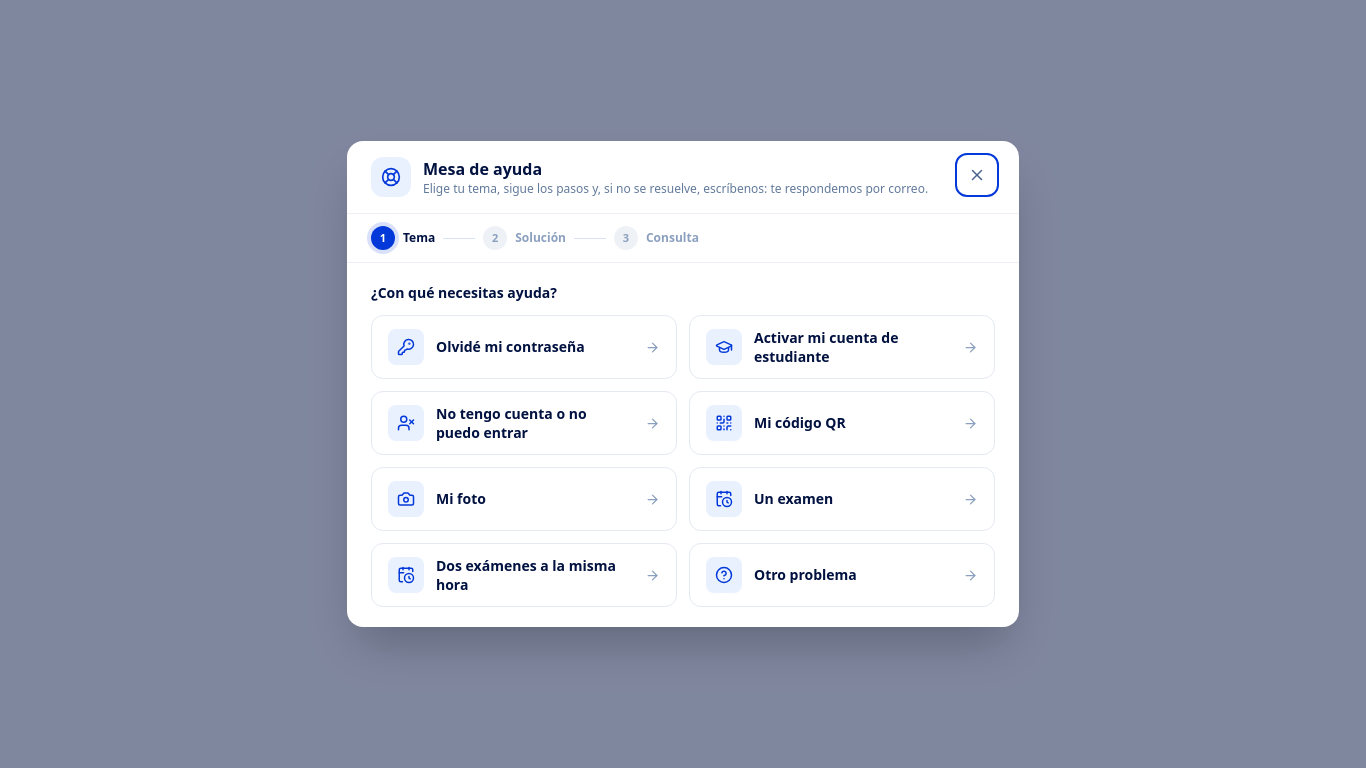
Test case: Mesa de ayuda › si no se resolvió, envía la consulta con el tema elegido y explica qué pasa después
Click the button "Activar mi cuenta de estudiante": (842, 347) left=689, top=315, right=995, bottom=379
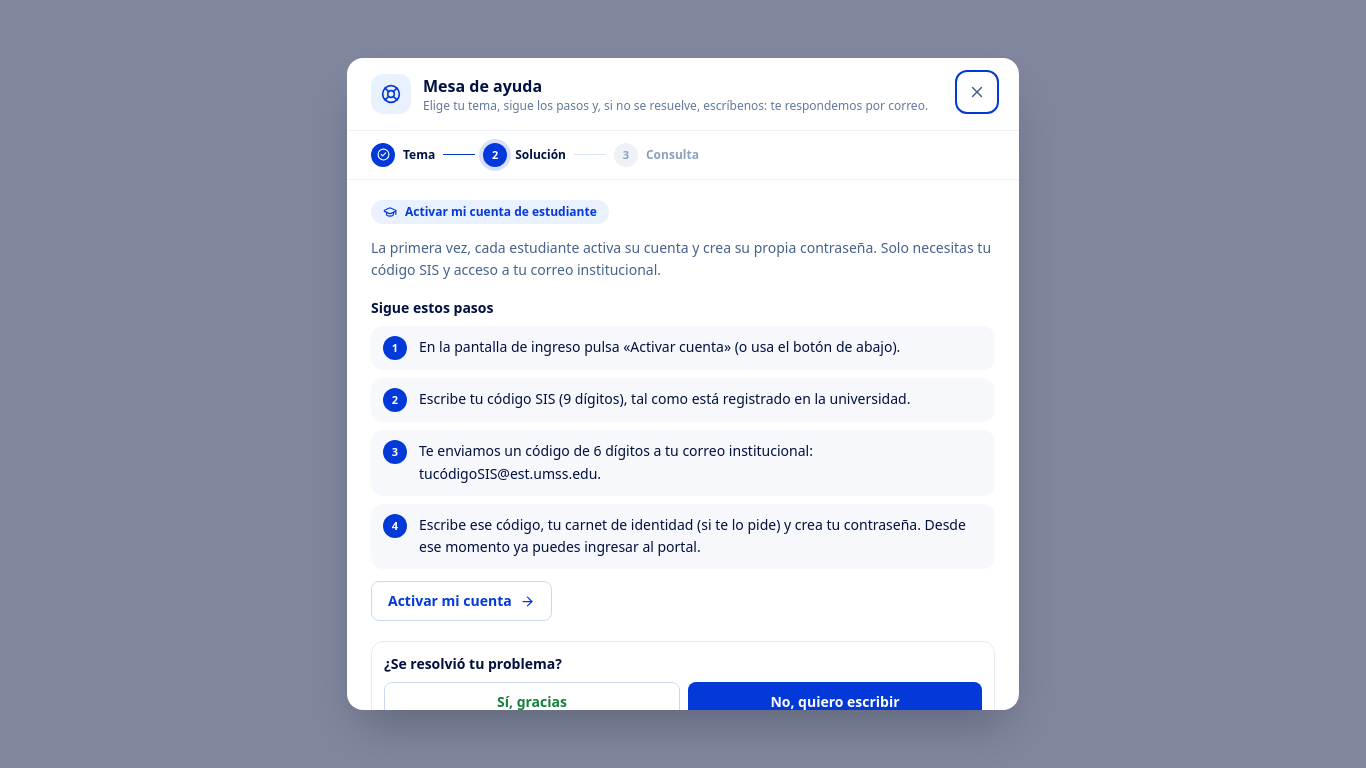
Click the button "No, quiero escribir": (835, 702) left=688, top=682, right=982, bottom=722
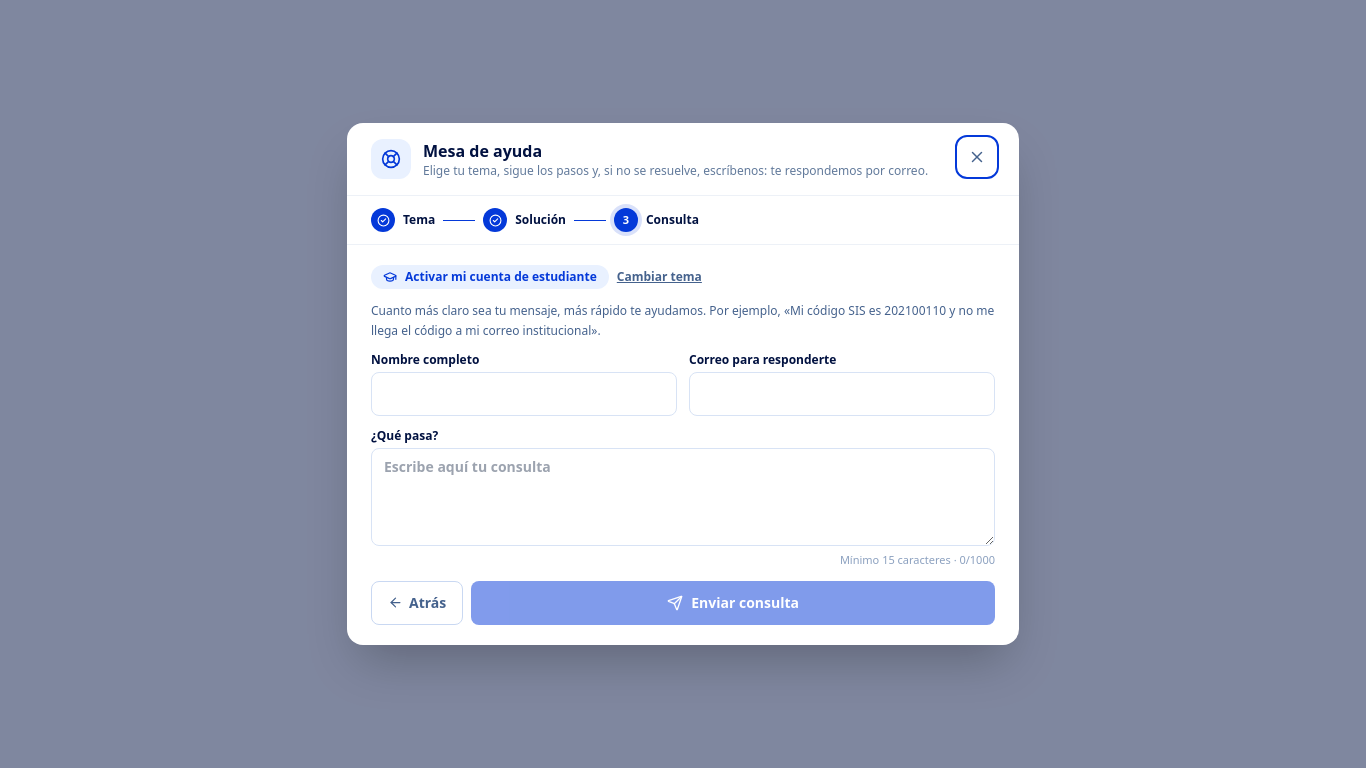
Result: the button "Enviar consulta" is disabled at left=471, top=581, right=995, bottom=625
In the field labelled "Nombre completo": (524, 394) left=371, top=372, right=677, bottom=416, type "Ana Pérez"
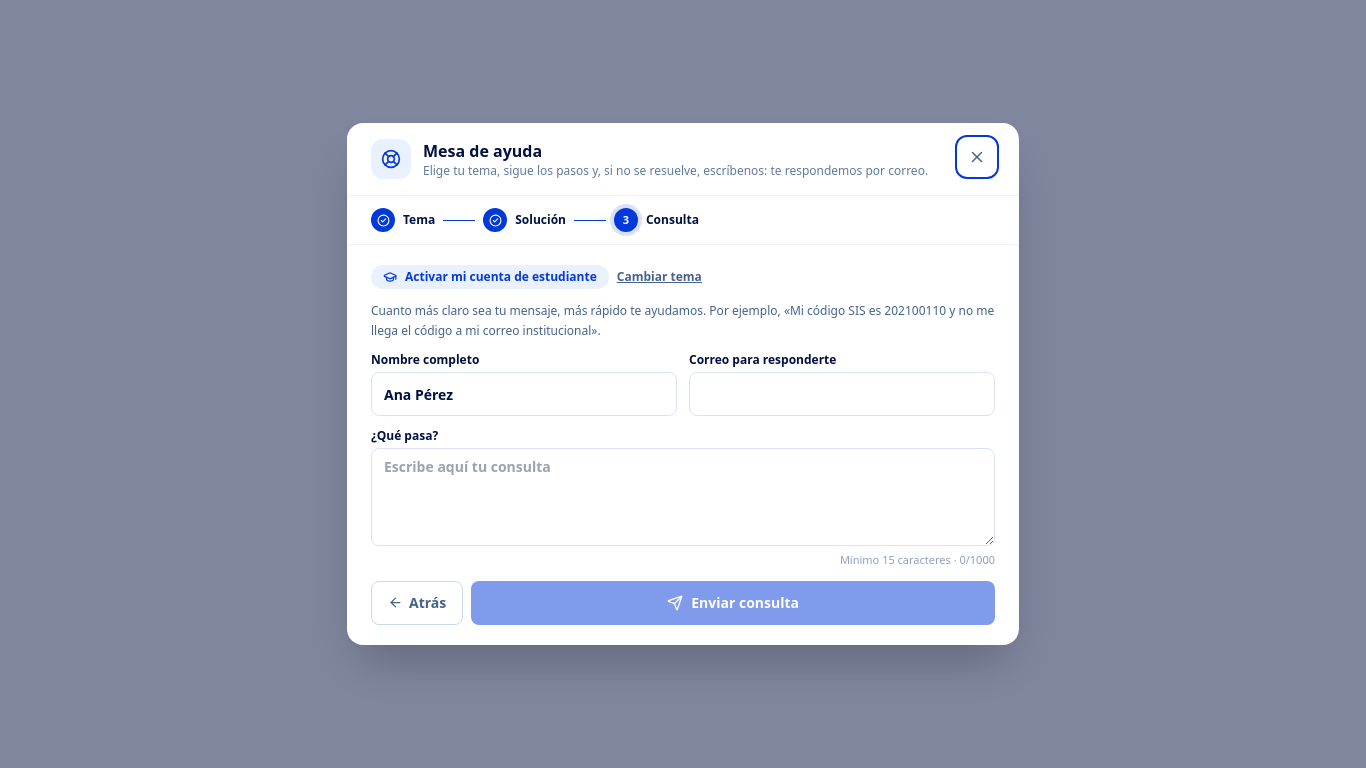
In the field labelled "Correo para responderte": (842, 394) left=689, top=372, right=995, bottom=416, type "ana@est.umss.edu"
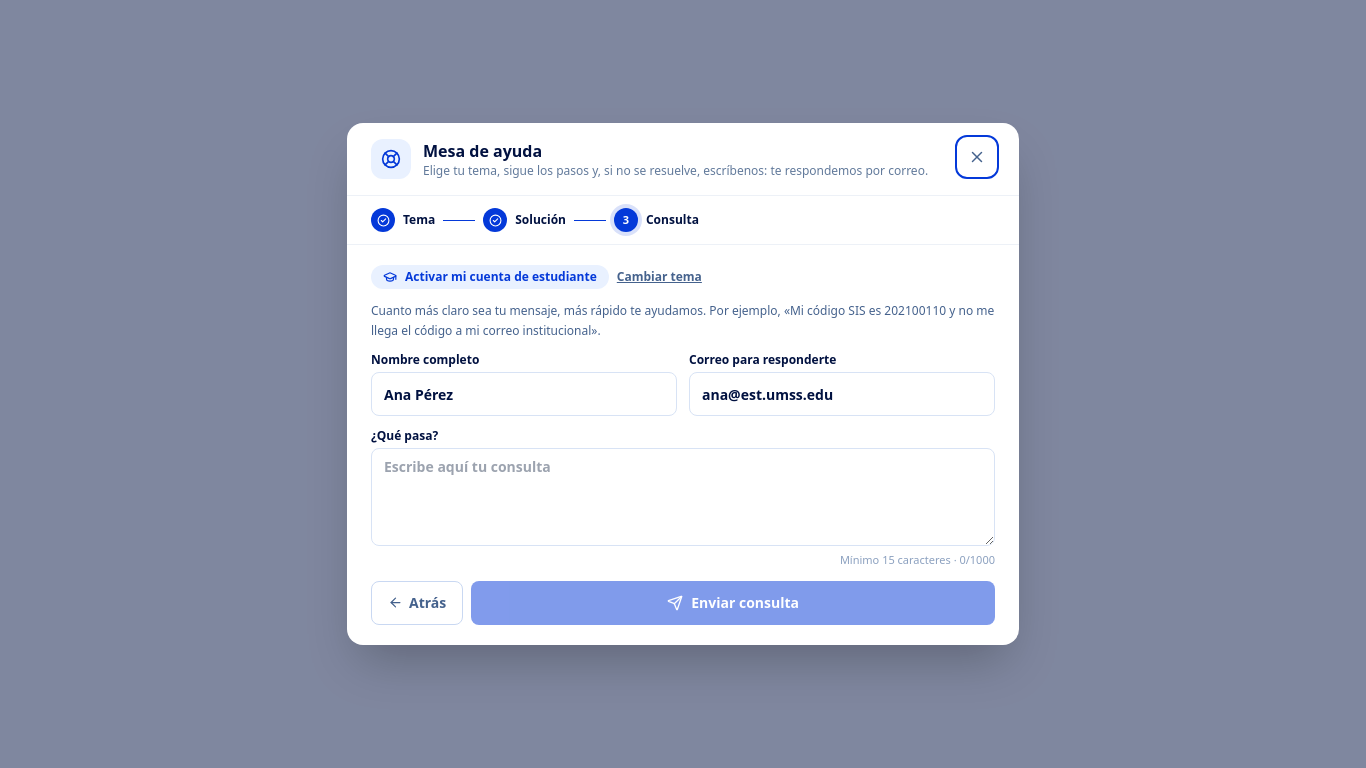
In the text box labelled "¿Qué pasa?": (683, 497) left=371, top=448, right=995, bottom=546, type "No me llega el código para activar mi cuenta."
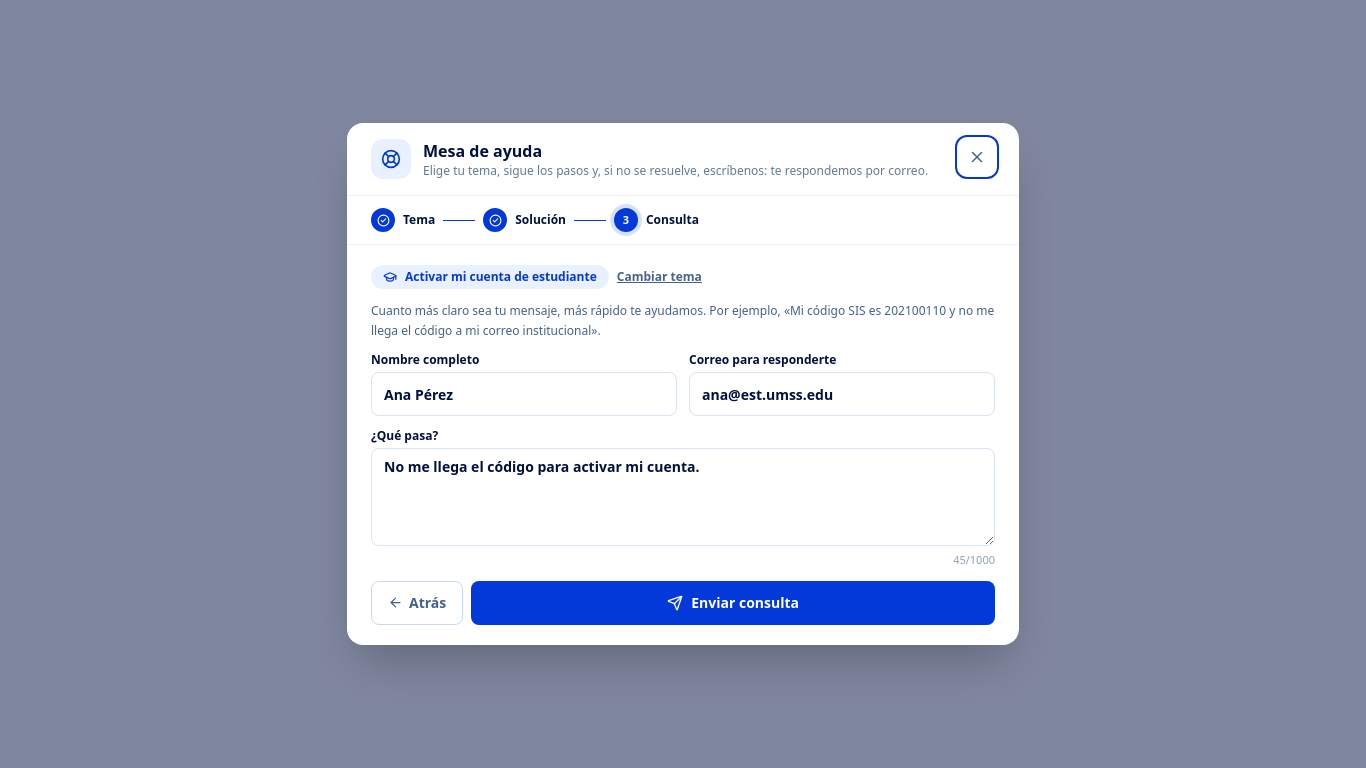
Click the button "Enviar consulta": (733, 603) left=471, top=581, right=995, bottom=625
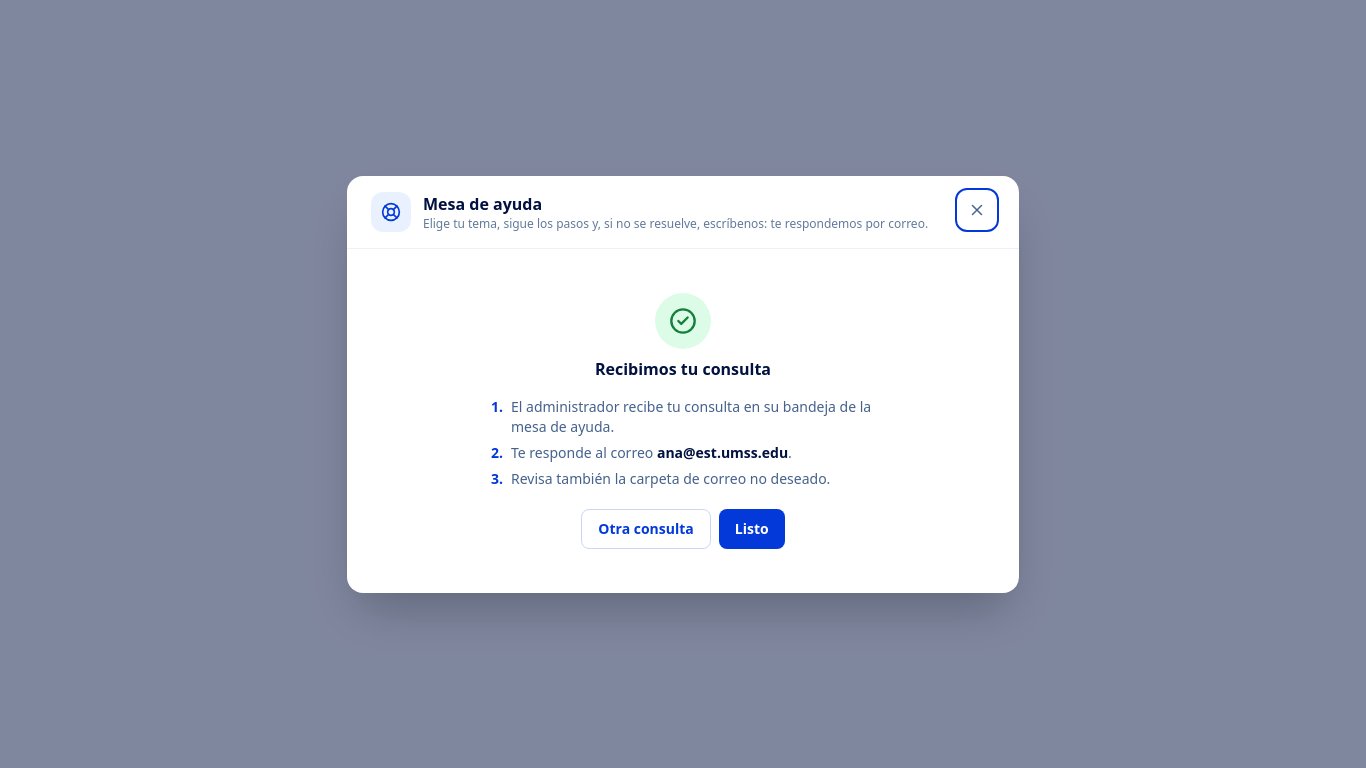
Result: the message shows "ana@est.umss.edu" at left=657, top=442, right=788, bottom=462
Result: the message shows "El administrador recibe tu consulta" at left=511, top=396, right=871, bottom=436
